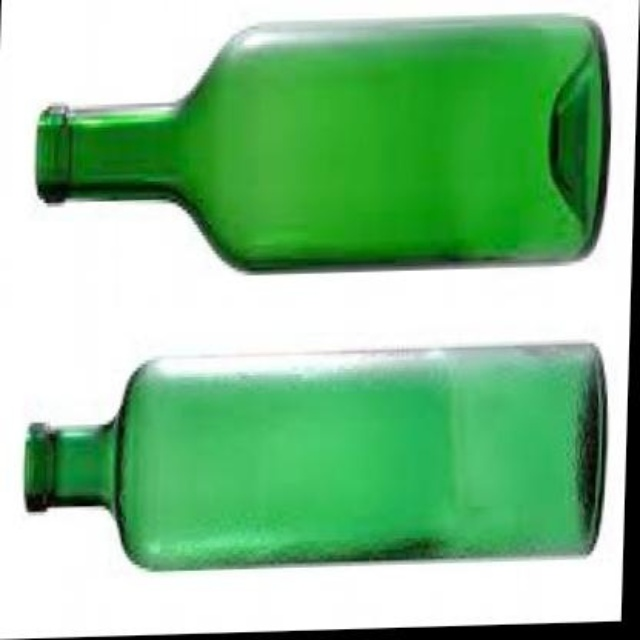trash: (37, 15, 608, 268), (25, 345, 603, 568)
